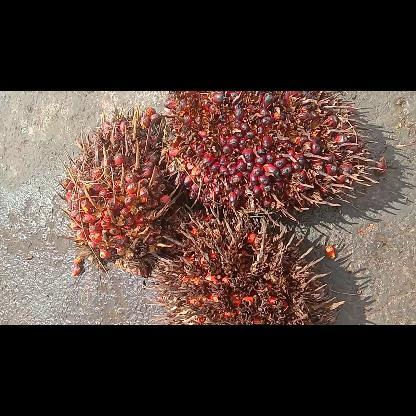TBS masak: (161, 91, 383, 225), (54, 104, 190, 276)
Terlalu masak: (142, 204, 344, 324)
